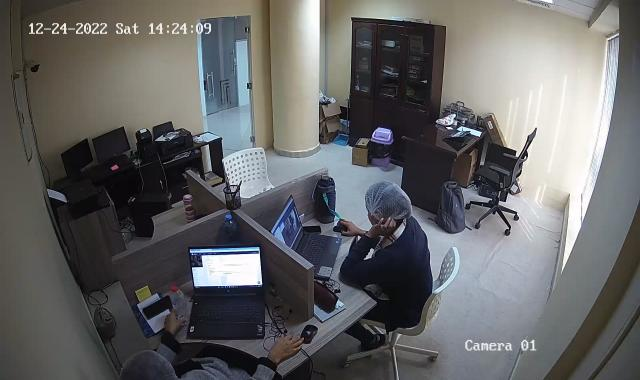hairnet: (365, 178, 414, 220), (120, 351, 179, 380)
